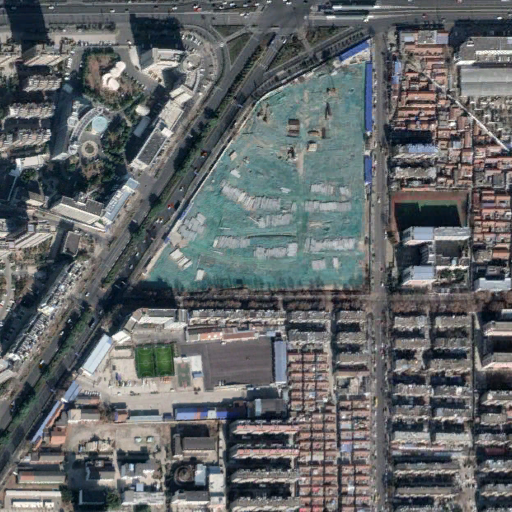cw: (141, 60, 369, 293)
